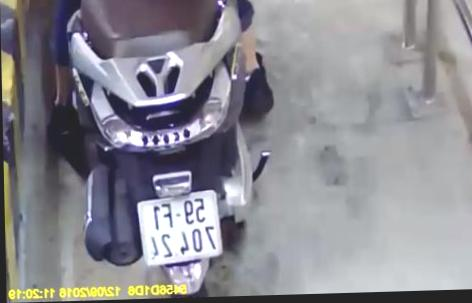License_Plate: (130, 181, 230, 269)
